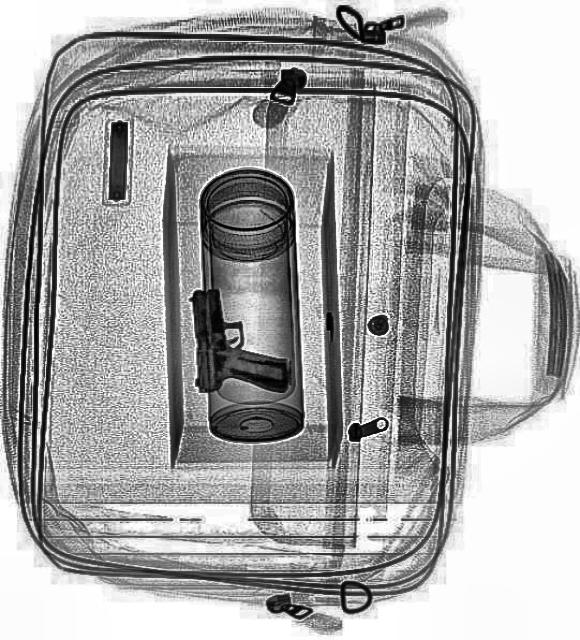Gun: (189, 282, 287, 396)
